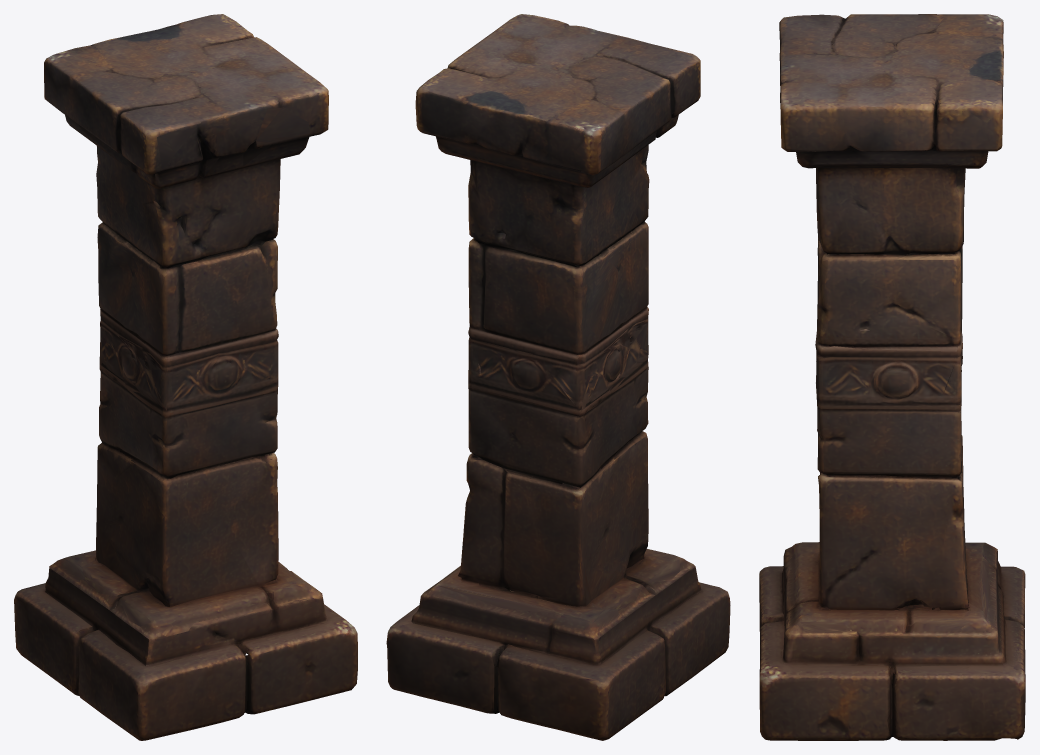
Rendered from dungeon-stone-pillar-desktop.glb.
The picture shows the model from 3 angles, left to right: view 1: azimuth 30°, elevation 25°; view 2: azimuth 150°, elevation 25°; view 3: azimuth 270°, elevation 25°; orthographic projection. The views are drawn at different scales.
Visible parts, largest first — view 1: dungeon-stone-pillar; view 2: dungeon-stone-pillar; view 3: dungeon-stone-pillar.
Boxes of the visible parts, left/top/right/bottom form: dungeon-stone-pillar: left=14, top=14, right=357, bottom=740; dungeon-stone-pillar: left=386, top=14, right=730, bottom=740; dungeon-stone-pillar: left=759, top=14, right=1025, bottom=740.
Bounding box in the file's own units: 1.69 × 4.4 × 1.69.
1 material, 1 textured.
